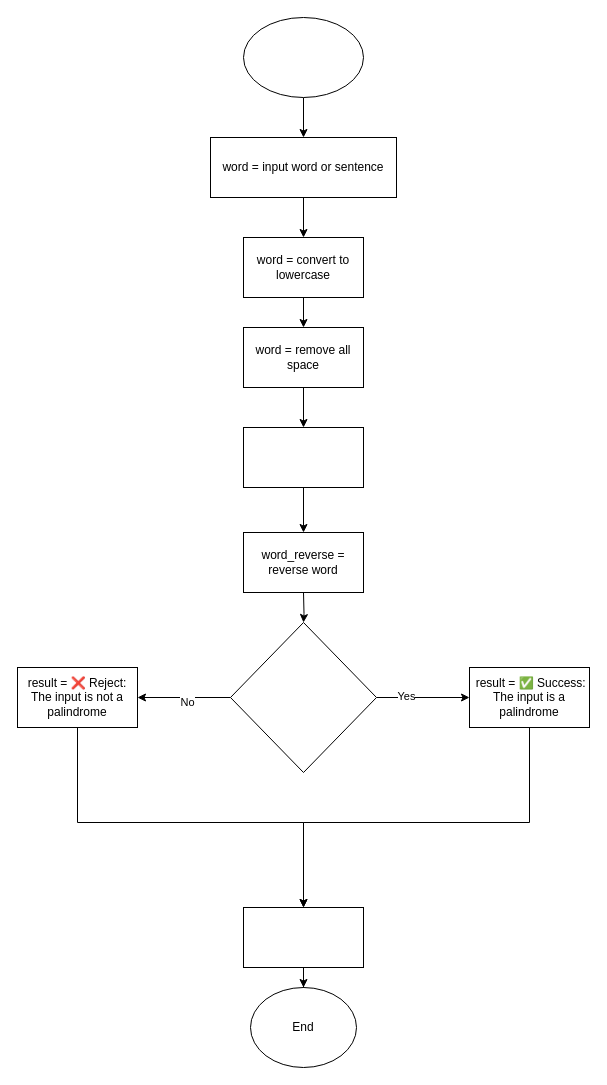
Some shapes in this 607 by 1085 pixel diagram are drawn without their labels. The box of each missing label's shape, as (x1, y1, x2, y2) in pixels:
result: (242, 906, 364, 968)
Start: (242, 16, 364, 98)
word = re.sub(a-zA-Z): (242, 426, 364, 488)
word_revese == word: (230, 622, 376, 772)
